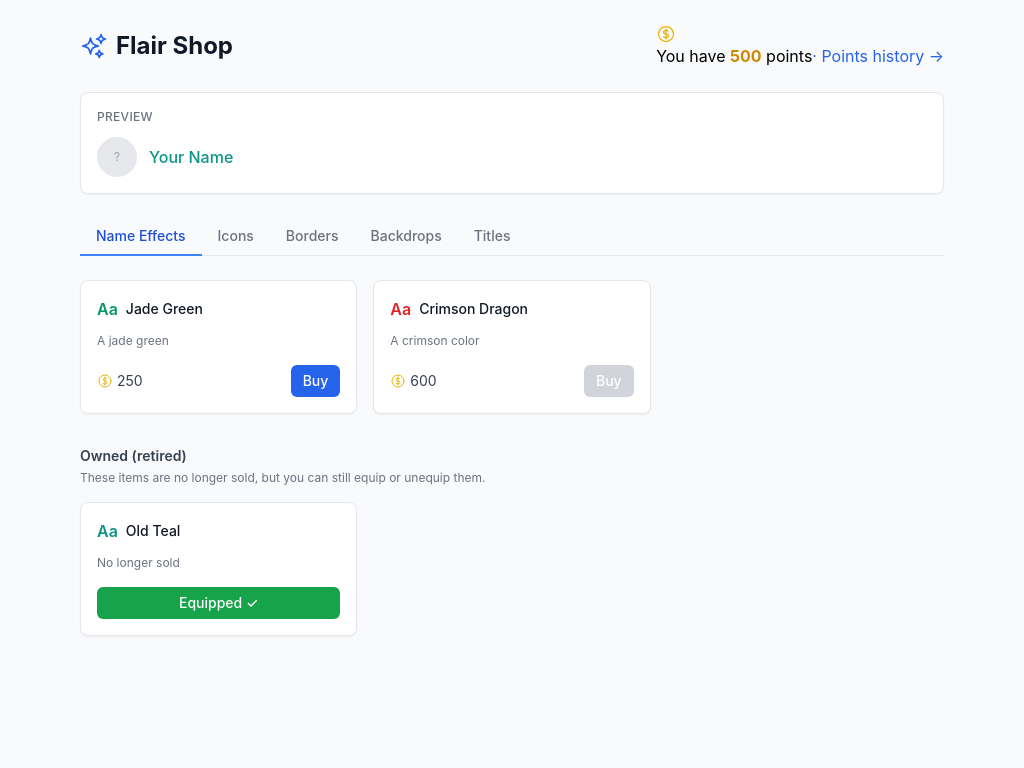
Shop page › retired items › unequips an equipped retired item
Click the button "Equipped ✓" at (219, 603), box [97, 587, 340, 619]
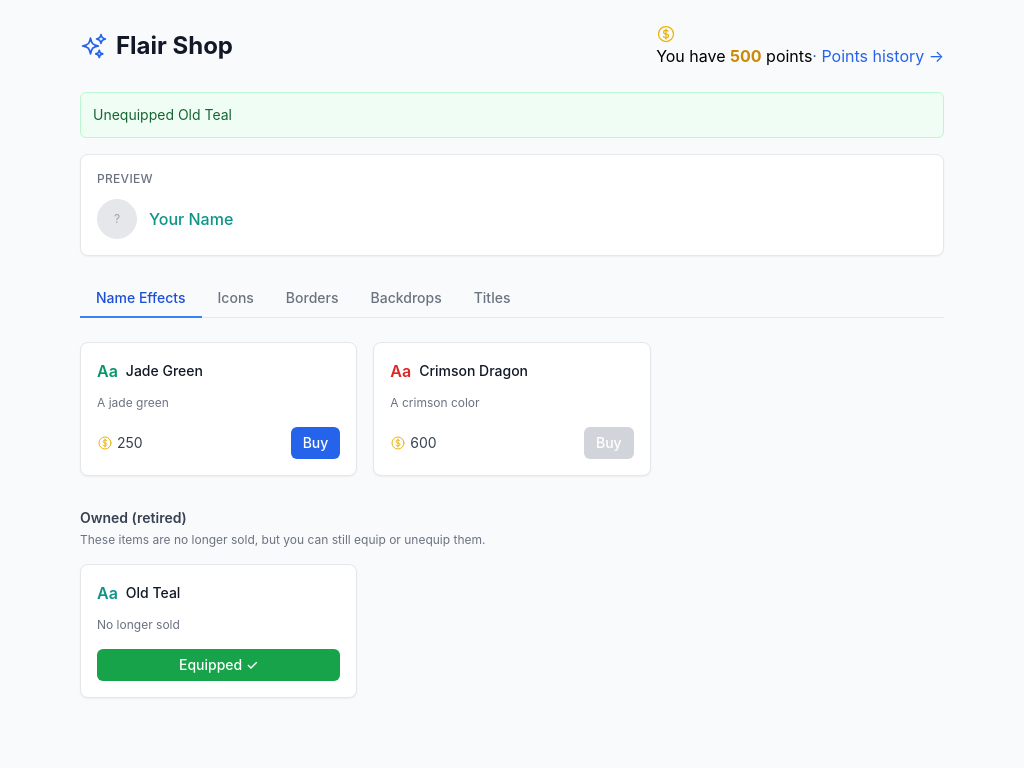
Expected: the text "Unequipped Old Teal" is shown, [80, 92, 944, 138]
